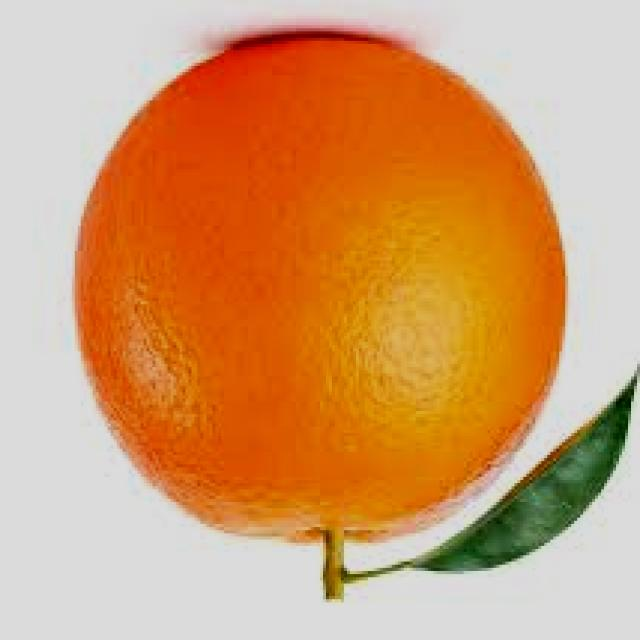jeruk: (61, 20, 579, 561)
